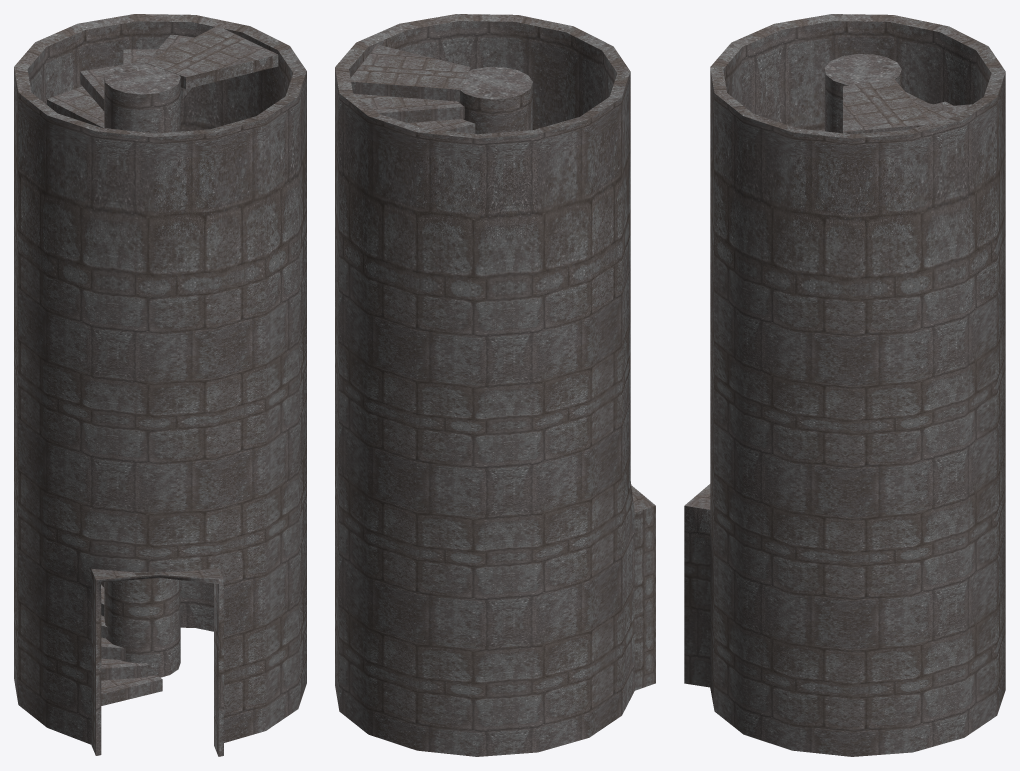
File: Spiral Staircase Room.fbx
3 renders of one model, left to right at view 1: azimuth 30°, elevation 25°; view 2: azimuth 150°, elevation 25°; view 3: azimuth 270°, elevation 25°, orthographic.
Visible parts, largest first — view 1: Cylinder_001; view 2: Cylinder_001; view 3: Cylinder_001.
Part boxes in pixels (<box>): Cylinder_001: <box>14,14,306,756</box>; Cylinder_001: <box>335,14,655,756</box>; Cylinder_001: <box>684,14,1005,756</box>.
Bounding box in the file's own units: 507 × 1171 × 552.
